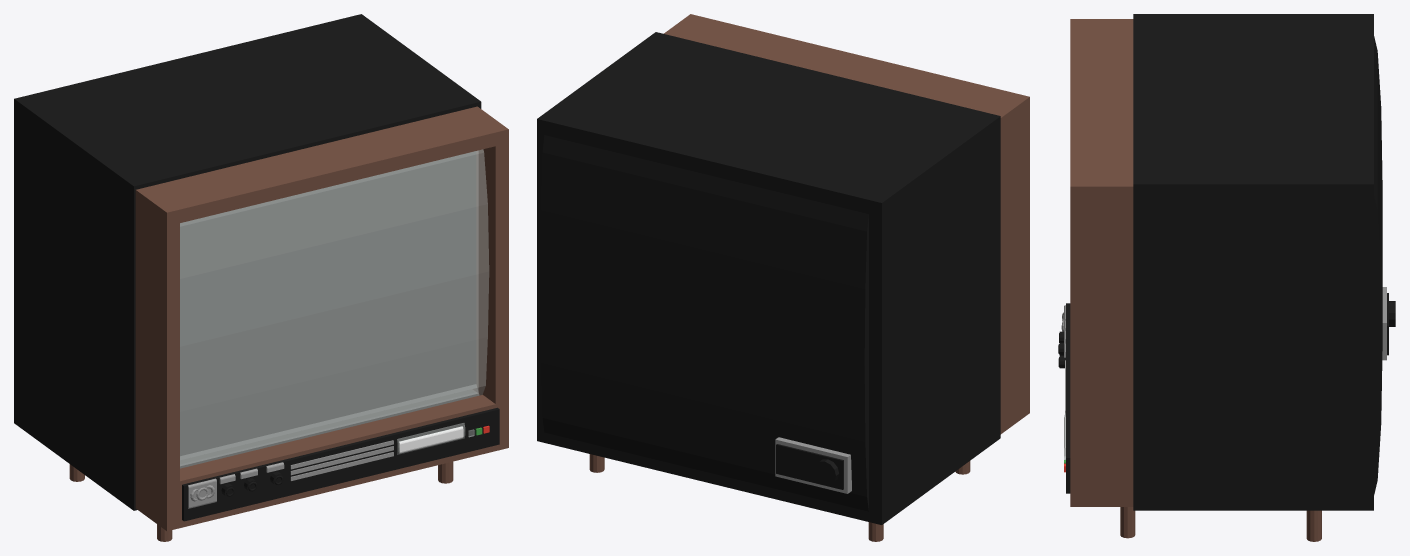
3 renders of one model, left to right at view 1: azimuth 30°, elevation 25°; view 2: azimuth 150°, elevation 25°; view 3: azimuth 270°, elevation 25°, orthographic.
Visible parts, largest first — view 1: group1992132380; view 2: group1992132380; view 3: group1992132380.
Boxes of the visible parts, left/top/right/bottom form: group1992132380: left=14, top=14, right=508, bottom=541; group1992132380: left=537, top=14, right=1029, bottom=541; group1992132380: left=1058, top=14, right=1395, bottom=541.
Size of the model in its own units: 1.86 by 1.88 by 1.56.
